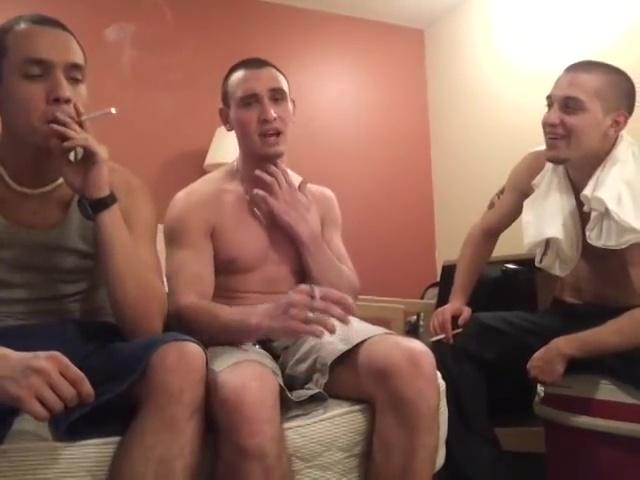cigarette: (74, 104, 118, 124), (427, 326, 464, 344), (309, 281, 322, 302)
